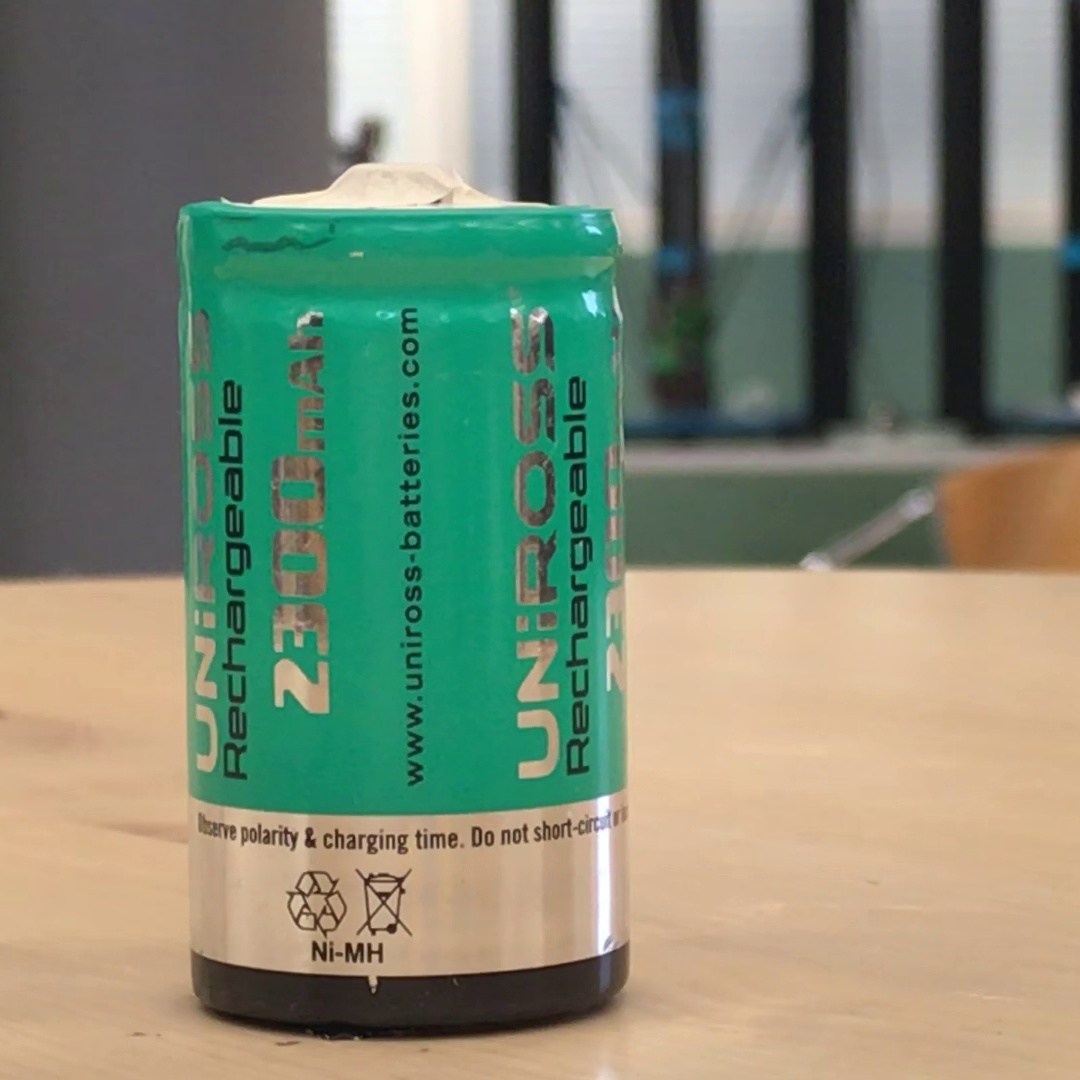keyword: (302, 933, 393, 972)
